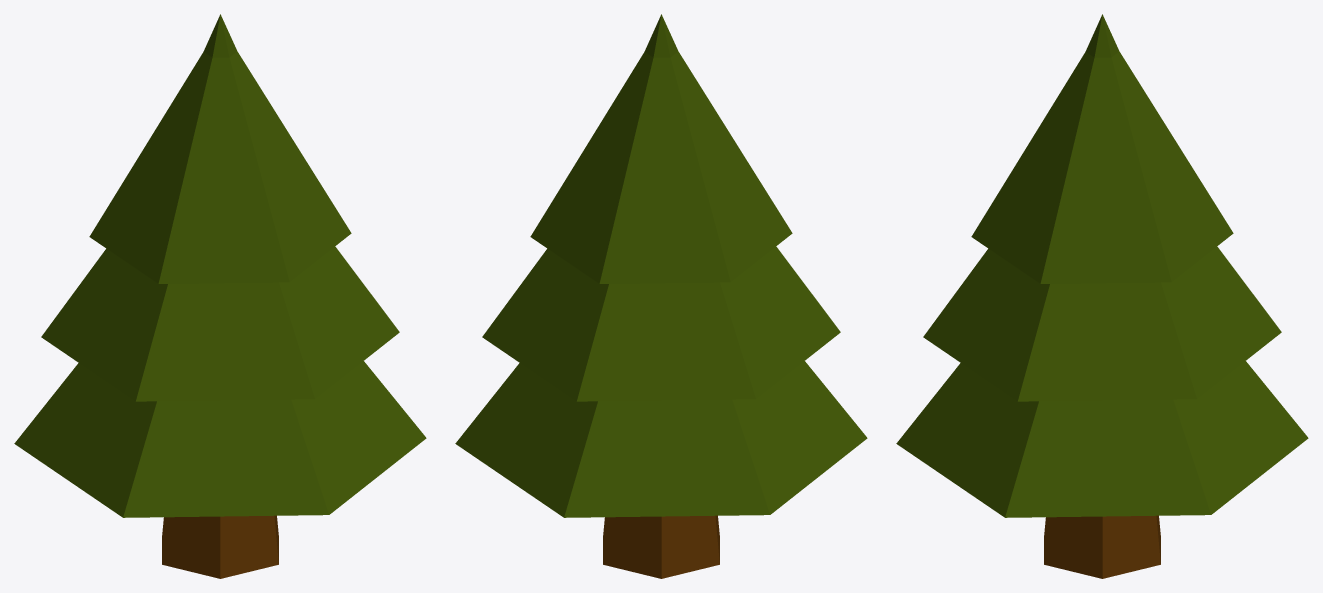
File: TreeD.fbx
3 views of the same model, side by side, from view 1: azimuth 30°, elevation 25°; view 2: azimuth 150°, elevation 25°; view 3: azimuth 270°, elevation 25° (orthographic).
Parts seen in each view (by area): view 1: group_0; view 2: group_0; view 3: group_0.
Boxes of the visible parts, x1,y1,x2,y2 form: group_0: (14, 14, 426, 578); group_0: (455, 14, 867, 578); group_0: (896, 14, 1308, 578).
Bounding box in the file's own units: 245 × 399 × 278.
